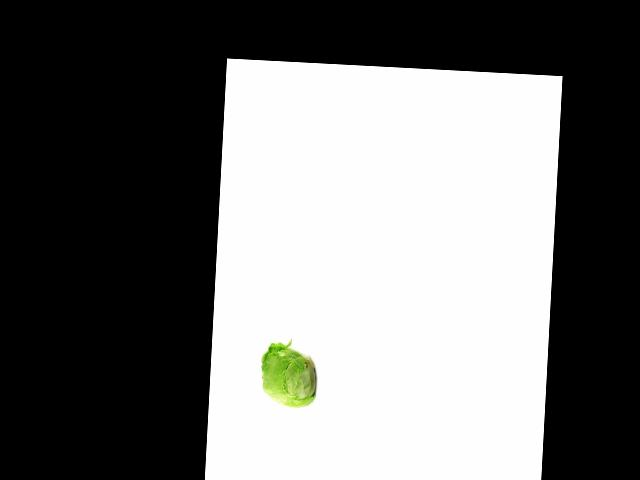lettuce: (256, 344, 320, 411)
